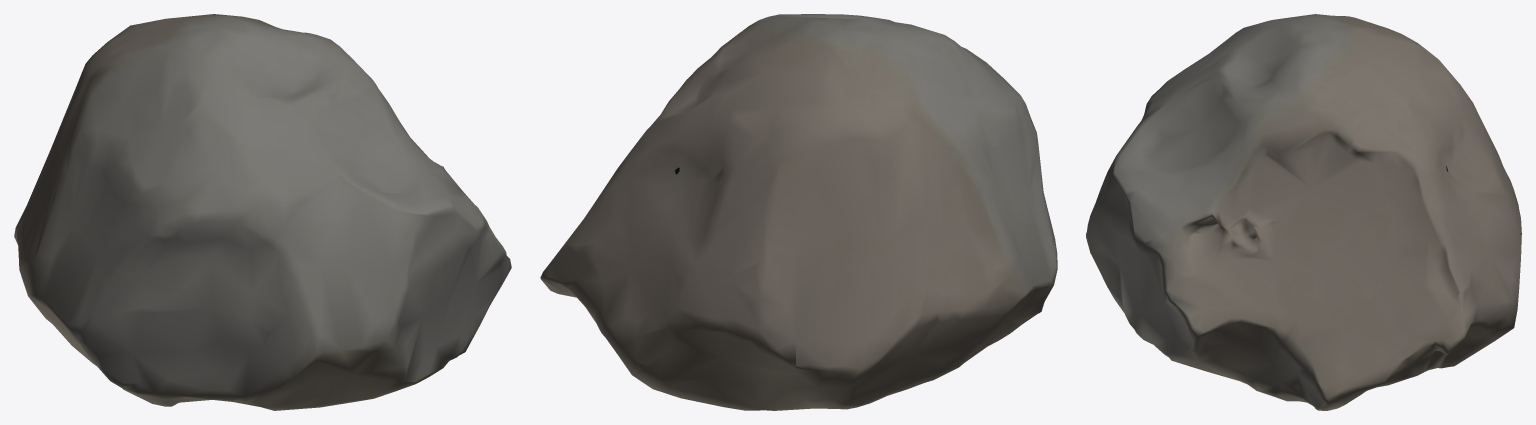
The model's file is pedra.glb.
3 renders of one model, left to right at view 1: azimuth 30°, elevation 25°; view 2: azimuth 150°, elevation 25°; view 3: azimuth 270°, elevation 25°, orthographic. The views are drawn at different scales.
Visible parts, largest first — view 1: tripo_node_cf6425f4-8b16-459a-a511-ddb43bd6db33; view 2: tripo_node_cf6425f4-8b16-459a-a511-ddb43bd6db33; view 3: tripo_node_cf6425f4-8b16-459a-a511-ddb43bd6db33.
Boxes of the visible parts, <box> form: tripo_node_cf6425f4-8b16-459a-a511-ddb43bd6db33: <box>14,14,511,410</box>; tripo_node_cf6425f4-8b16-459a-a511-ddb43bd6db33: <box>540,14,1057,410</box>; tripo_node_cf6425f4-8b16-459a-a511-ddb43bd6db33: <box>1086,14,1521,410</box>.
Size of the model in its own units: 0.998 by 0.7716 by 0.998.
Materials: 1 (1 with a texture image).
